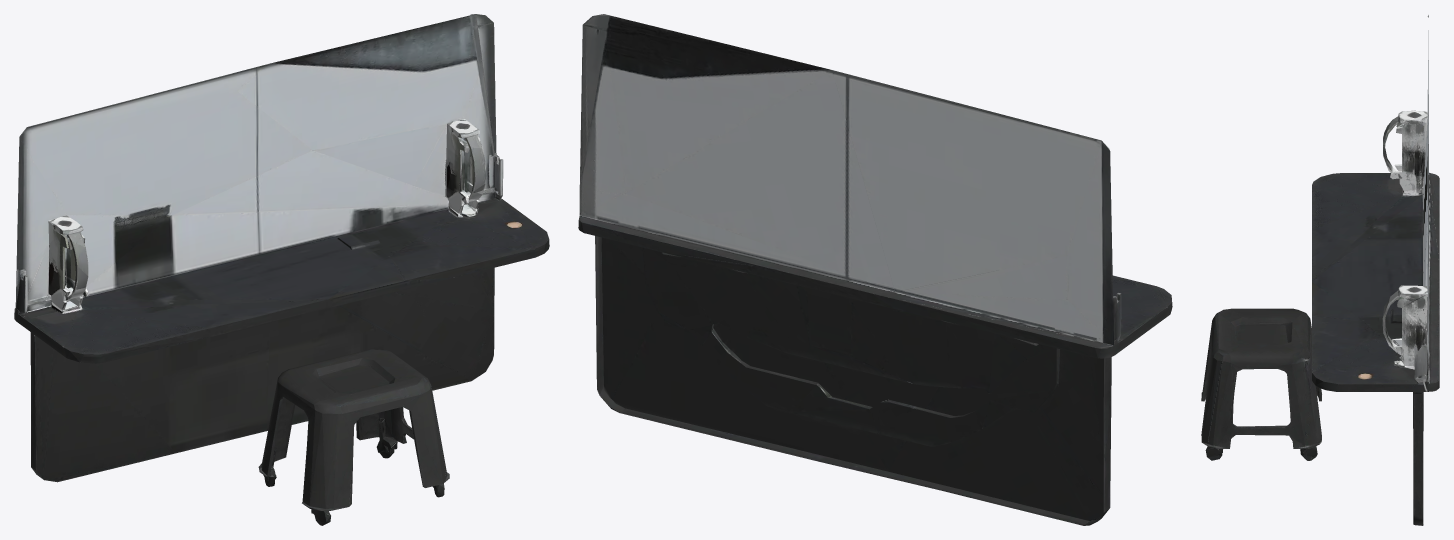
File: visit_desk.glb
3 views of the same model, side by side, from view 1: azimuth 30°, elevation 25°; view 2: azimuth 150°, elevation 25°; view 3: azimuth 270°, elevation 25° (orthographic). The views are drawn at different scales.
Bounding box in the file's own units: 1.9 × 1.35 × 0.9053.
Materials: 1 (1 with a texture image).
